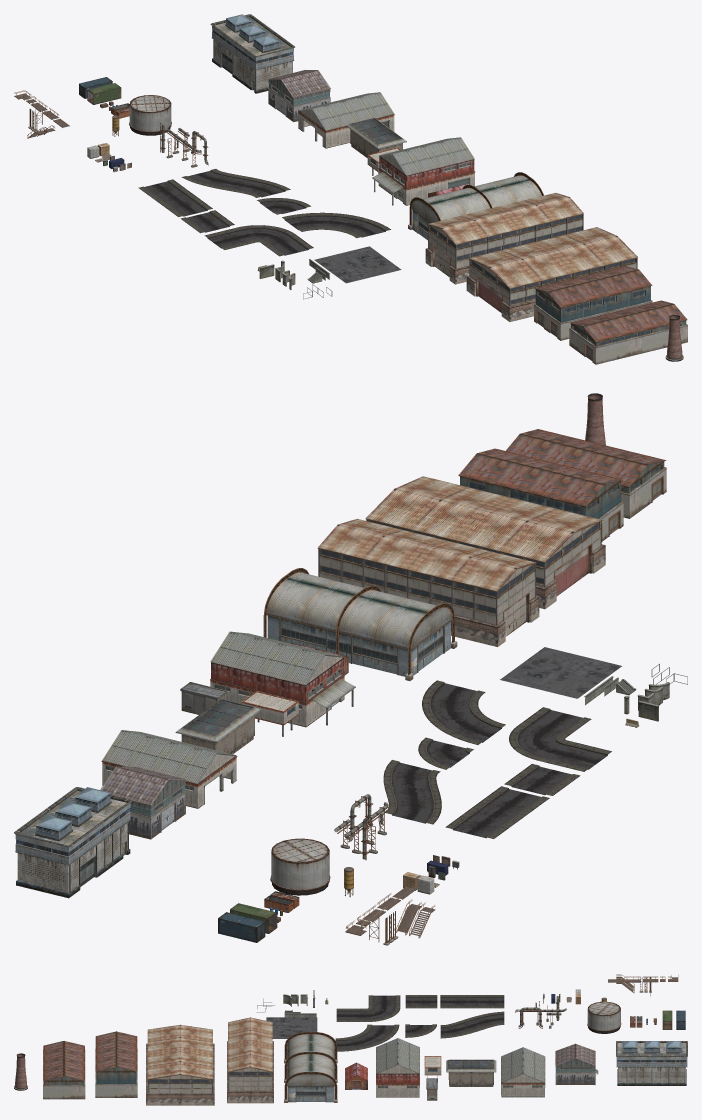
The model's file is IndustrialHorror_PS_like.fbx.
The picture shows the model from 3 angles, top to bottom: view 1: azimuth 30°, elevation 25°; view 2: azimuth 150°, elevation 25°; view 3: azimuth 270°, elevation 25°; orthographic projection. The views are drawn at different scales.
Parts seen in each view (by area): view 1: Building_10, Building_9, Building_11, Building_12, Building_6, Building_1, Building_8, Building_3, Building_2, Road_turn_3, Alphalt_Floor, Road_turn_2 (+8 smaller); view 2: Building_9, Building_10, Building_8, Building_1, Building_6, Building_11, Building_12, Building_3, Building_2, Road_turn_3, Alphalt_Floor, Road_turn_2 (+10 smaller); view 3: Building_10, Building_9, Building_8, Building_1, Building_11, Building_6, Building_12, Building_3, Building_2, Building_4, Road_turn_3, Road_turn_2 (+11 smaller).
Part boxes in pixels (x1,y1,x2,y2): Building_10: (466,227,637,321); Building_9: (425,192,583,284); Building_11: (534,266,652,340); Building_12: (569,300,687,364); Building_6: (372,137,475,205); Building_1: (210,14,294,93); Building_8: (408,172,543,240); Building_3: (298,92,394,148); Building_2: (268,70,330,122); Road_turn_3: (204,225,313,256); Alphalt_Floor: (314,246,401,283); Road_turn_2: (282,212,390,238); Building_9: (317,518,539,646); Building_10: (365,476,605,609); Building_8: (263,568,457,680); Building_1: (14,787,132,898); Building_6: (210,631,355,727); Building_11: (458,448,623,541); Building_12: (506,429,666,518); Building_3: (101,730,237,808); Building_2: (100,766,186,839); Road_turn_3: (509,707,611,771); Alphalt_Floor: (500,647,621,698); Road_turn_2: (422,680,505,744); Building_10: (146,1024,214,1105); Building_9: (227,1017,273,1103); Building_8: (284,1032,337,1102); Building_1: (616,1041,687,1085); Building_11: (95,1031,137,1097); Building_6: (376,1038,419,1097); Building_12: (43,1041,85,1099); Building_3: (501,1047,545,1097); Building_2: (555,1043,598,1085); Building_4: (446,1059,496,1086); Road_turn_3: (336,995,400,1021); Road_turn_2: (335,1024,399,1051).
Bounding box in the file's own units: 8775 × 1309 × 21137.
